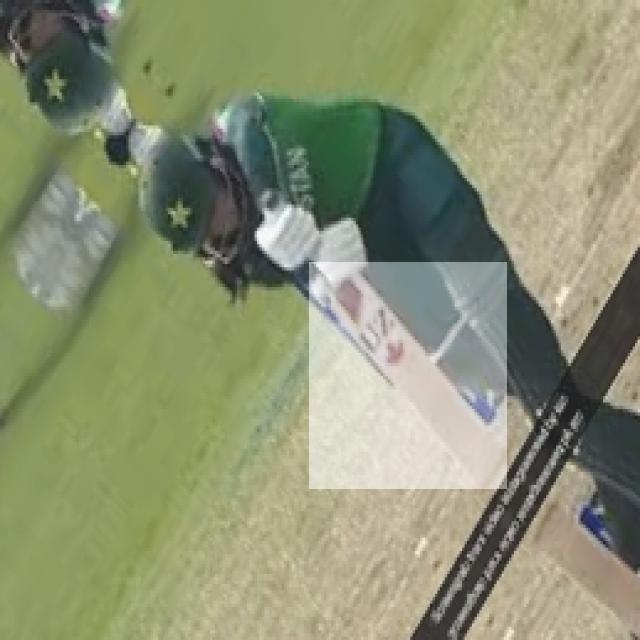bat: (311, 261, 507, 488)
